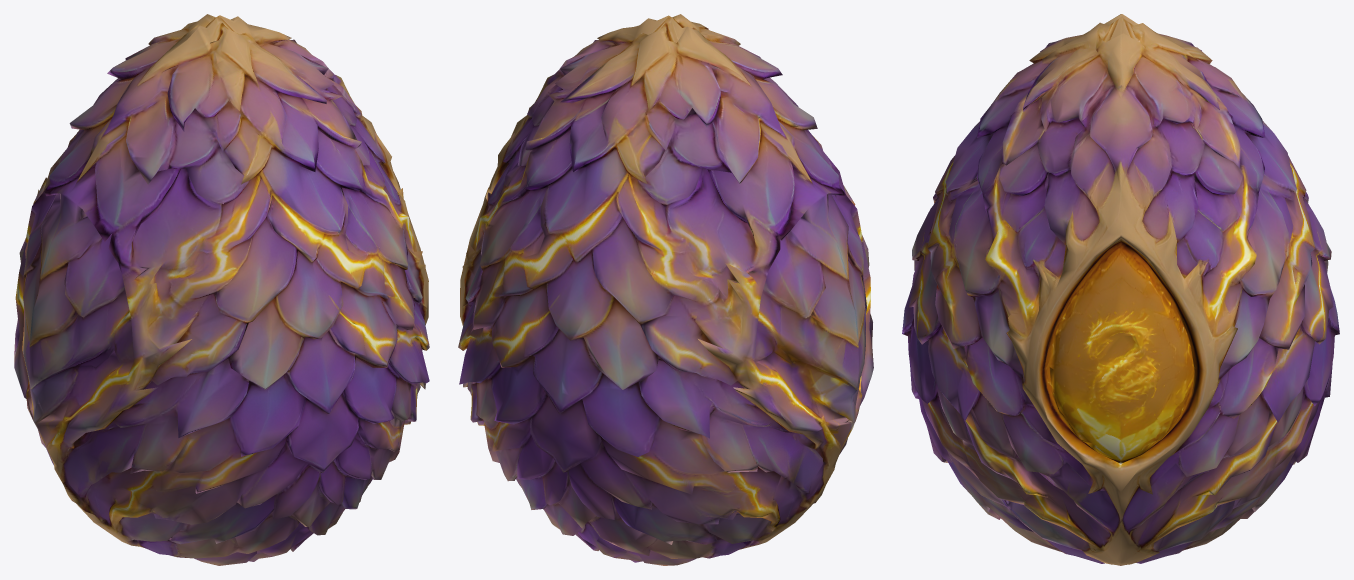
The model's file is ur-dragon-egg.glb.
3 views of the same model, side by side, from view 1: azimuth 30°, elevation 25°; view 2: azimuth 150°, elevation 25°; view 3: azimuth 270°, elevation 25° (orthographic).
Visible parts, largest first — view 1: tripo_node_2fd1893b-732c-4fce-a557-cc00326c636a; view 2: tripo_node_2fd1893b-732c-4fce-a557-cc00326c636a; view 3: tripo_node_2fd1893b-732c-4fce-a557-cc00326c636a.
Boxes of the visible parts, x1,y1,x2,y2 form: tripo_node_2fd1893b-732c-4fce-a557-cc00326c636a: (14, 14, 429, 565); tripo_node_2fd1893b-732c-4fce-a557-cc00326c636a: (458, 14, 873, 565); tripo_node_2fd1893b-732c-4fce-a557-cc00326c636a: (902, 14, 1339, 565).
Bounding box in the file's own units: 0.7321 × 1 × 0.7472.
Materials: 1 (1 with a texture image).
